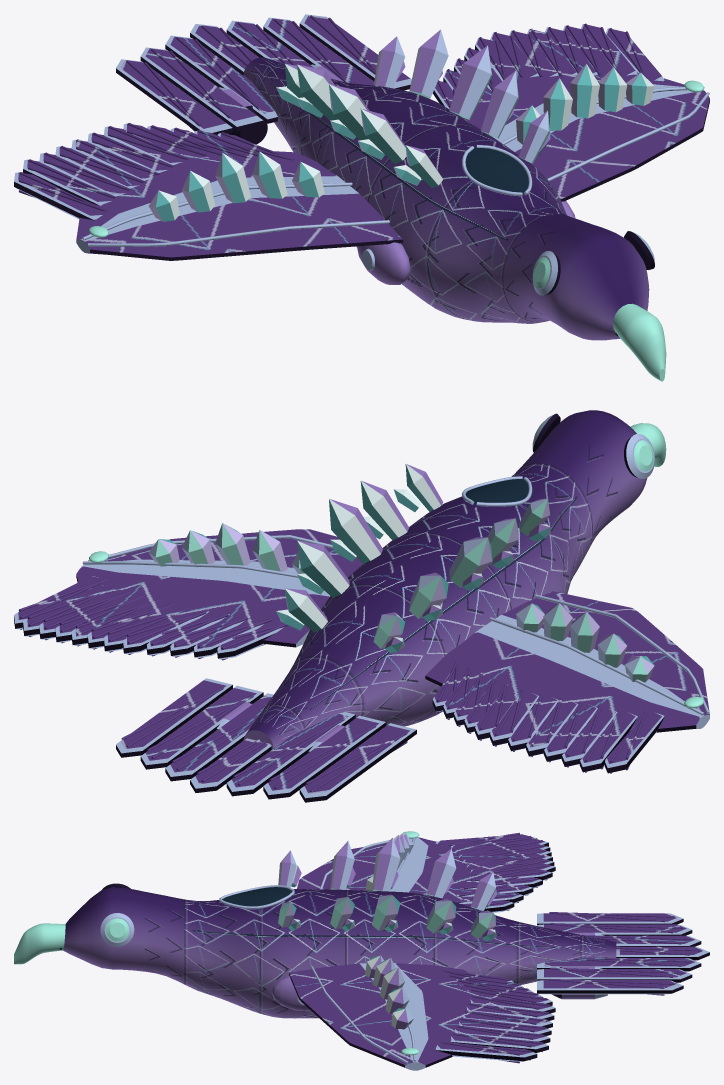
The picture shows the model from 3 angles, top to bottom: view 1: azimuth 30°, elevation 25°; view 2: azimuth 150°, elevation 25°; view 3: azimuth 270°, elevation 25°; orthographic projection. The views are drawn at different scales.
Parts seen in each view (by area): view 1: oxpecker_hull; view 2: oxpecker_hull; view 3: oxpecker_hull.
Boxes of the visible parts, <box> form: oxpecker_hull: <box>14,14,709,381</box>; oxpecker_hull: <box>14,410,709,802</box>; oxpecker_hull: <box>14,831,709,1070</box>.
Size of the model in its own units: 12.31 by 3.7 by 16.
1 material, 1 textured.
